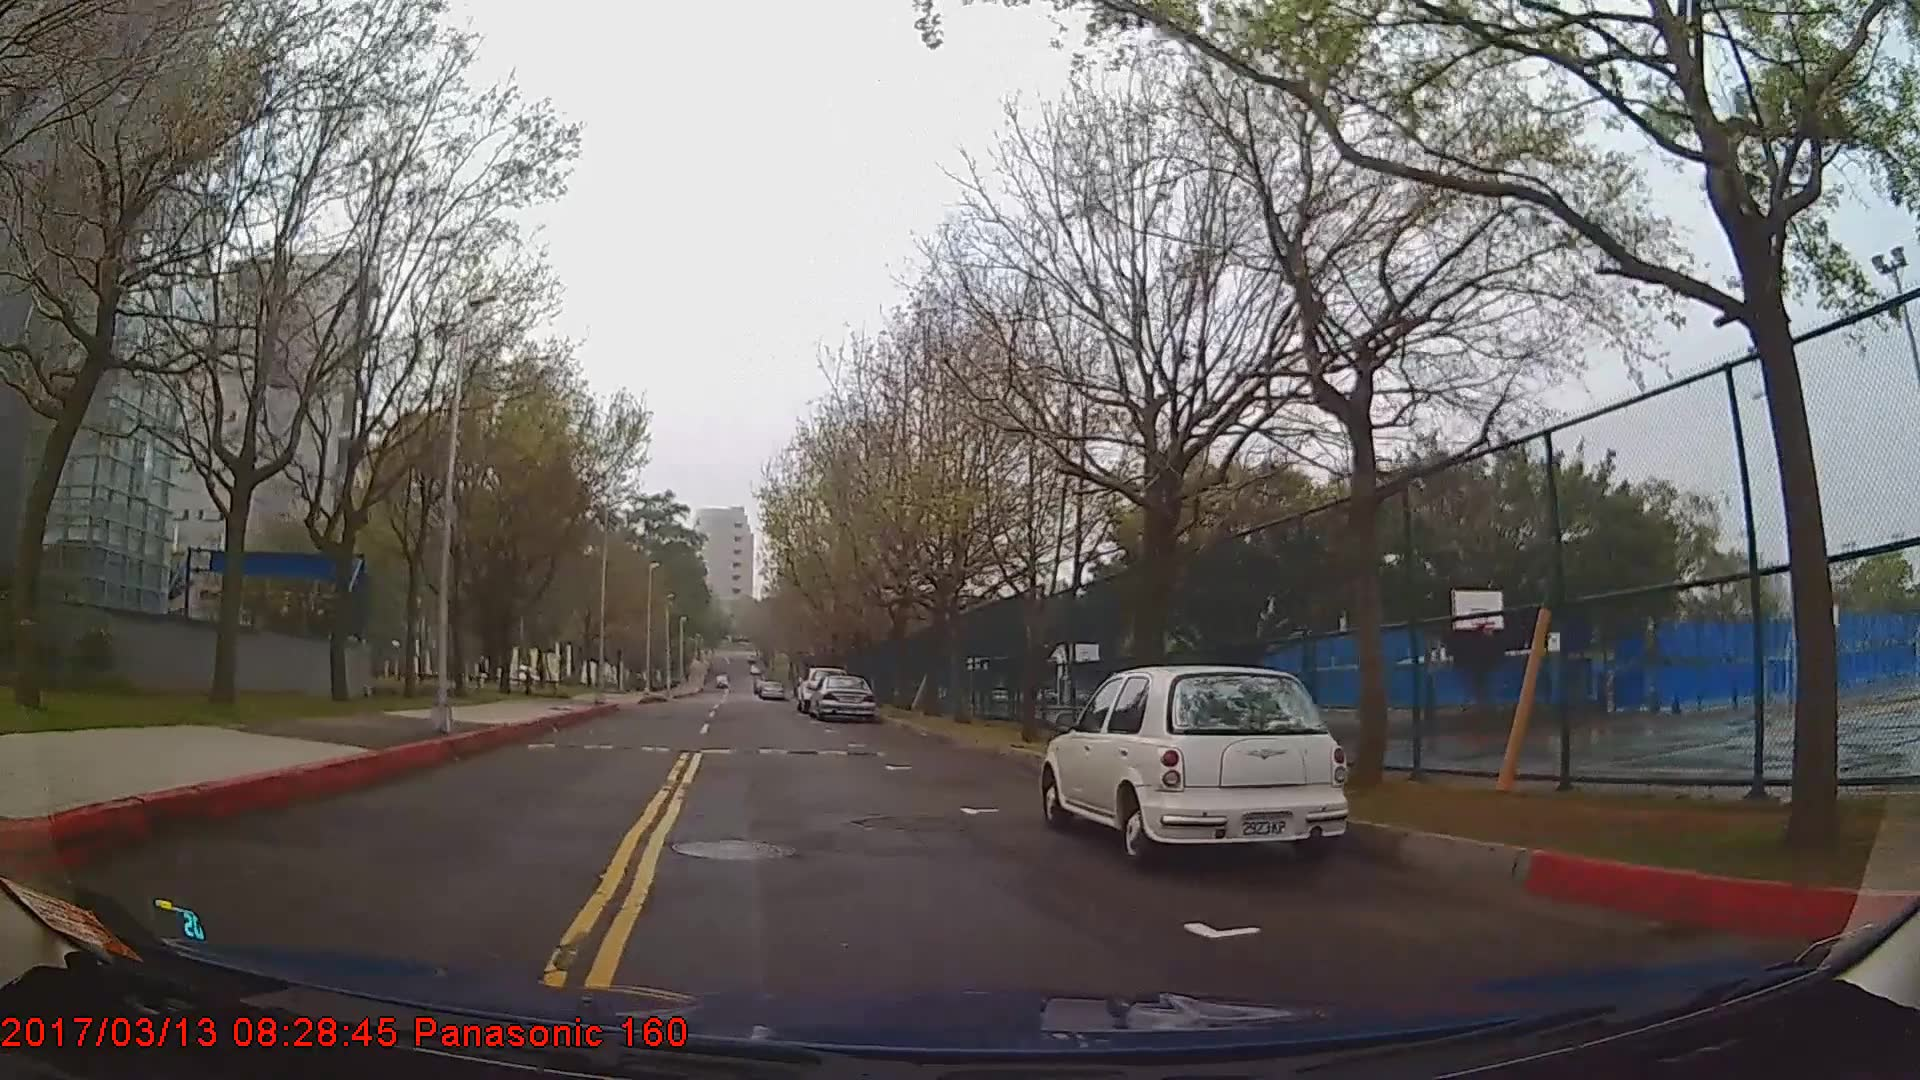vehicle: (1034, 663, 1348, 872), (804, 671, 874, 719)
